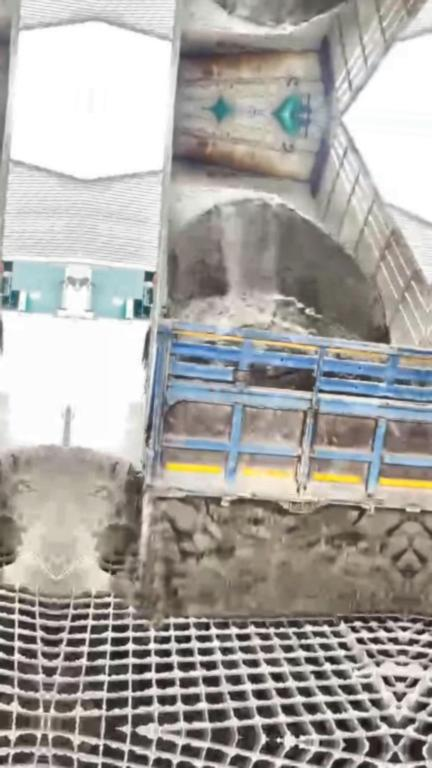sand: (56, 449, 412, 620), (168, 192, 387, 340)
